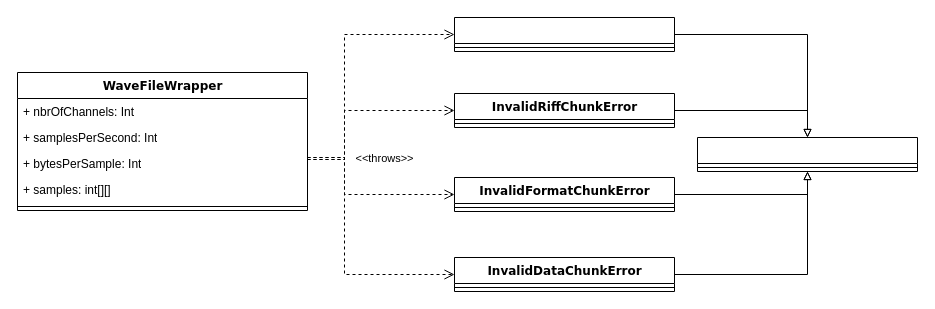
The diagram is 935 pixels wide and 309 high, and some of its shapes have lost their labels. Here are the shapes that lost their labels. From the top down, the centre of each, then its label:
the point at 564,34: InvalidFileError
the point at 807,154: WaveFileWrapperError
